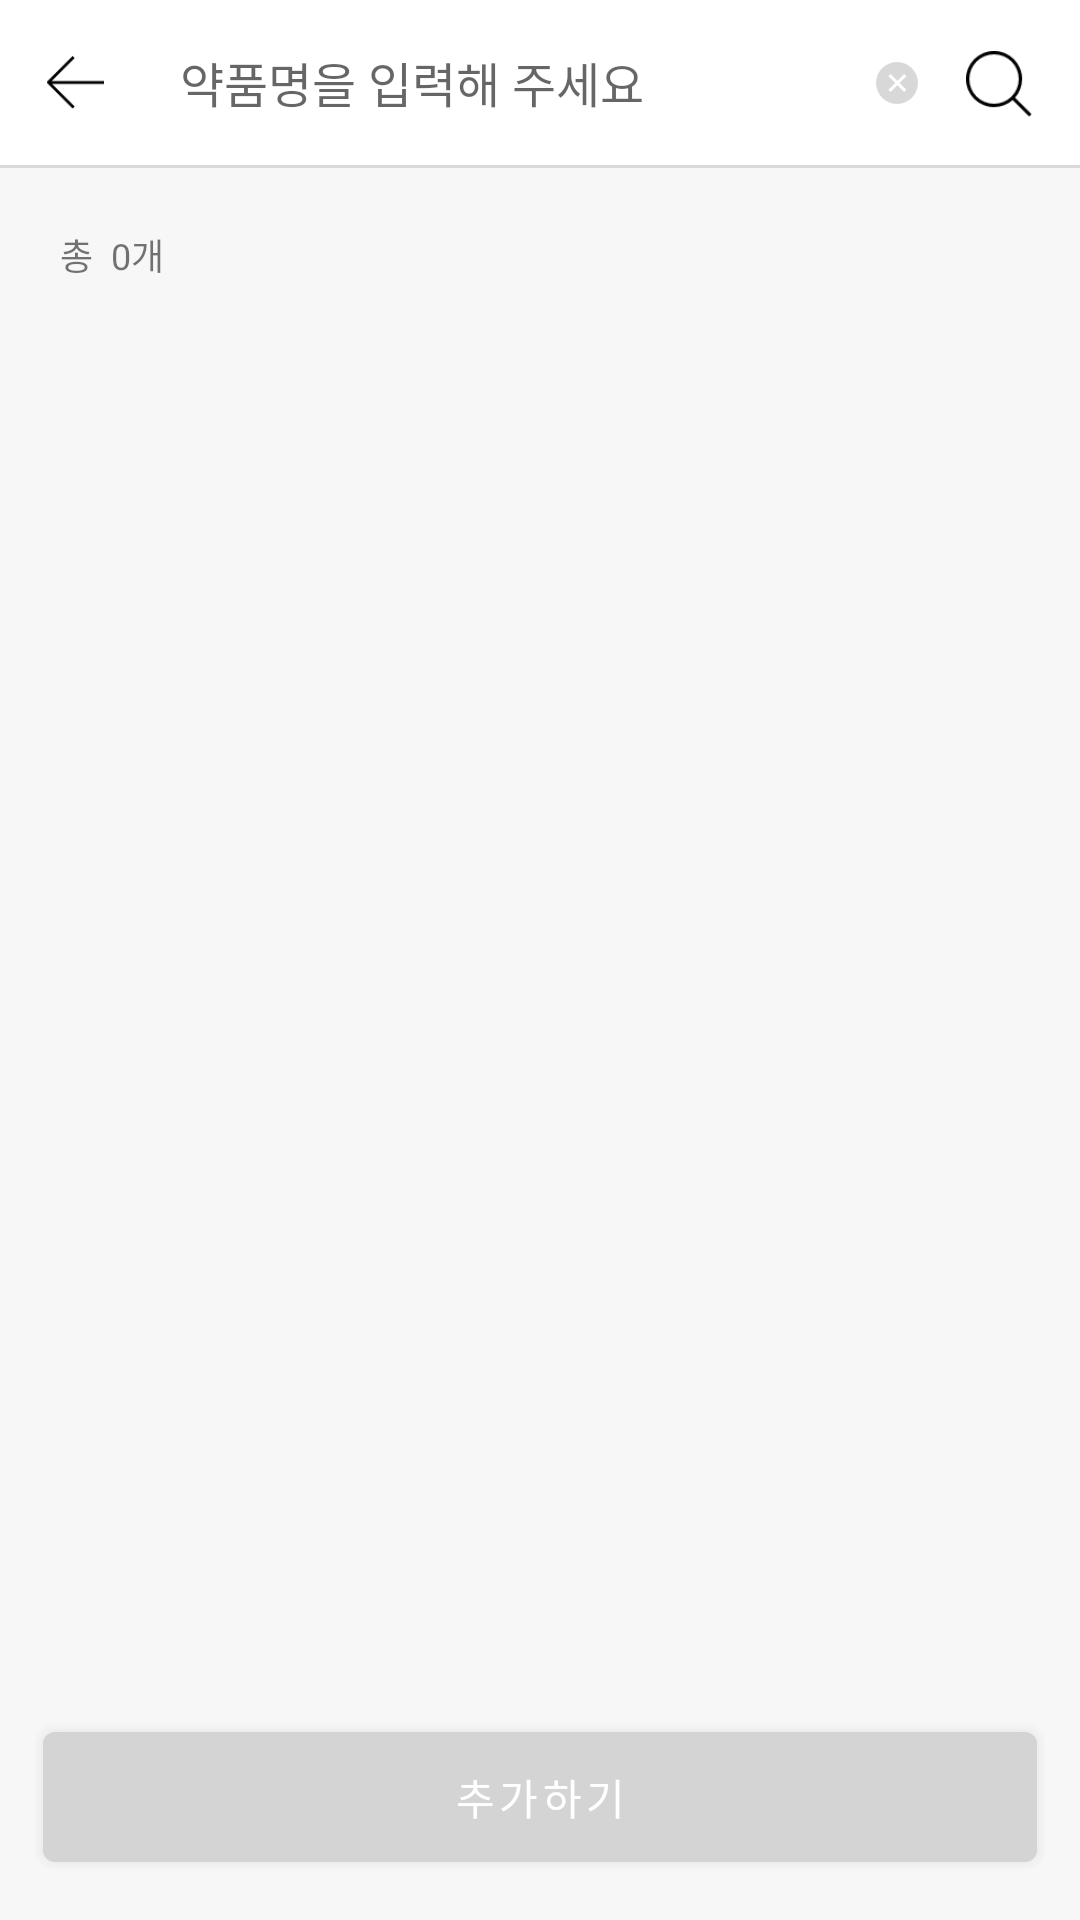

Icons on this 1080w x 1920h Android screen, each with the point to tap as [x,y]:
backbutton: [75,82]
search: [999,84]
